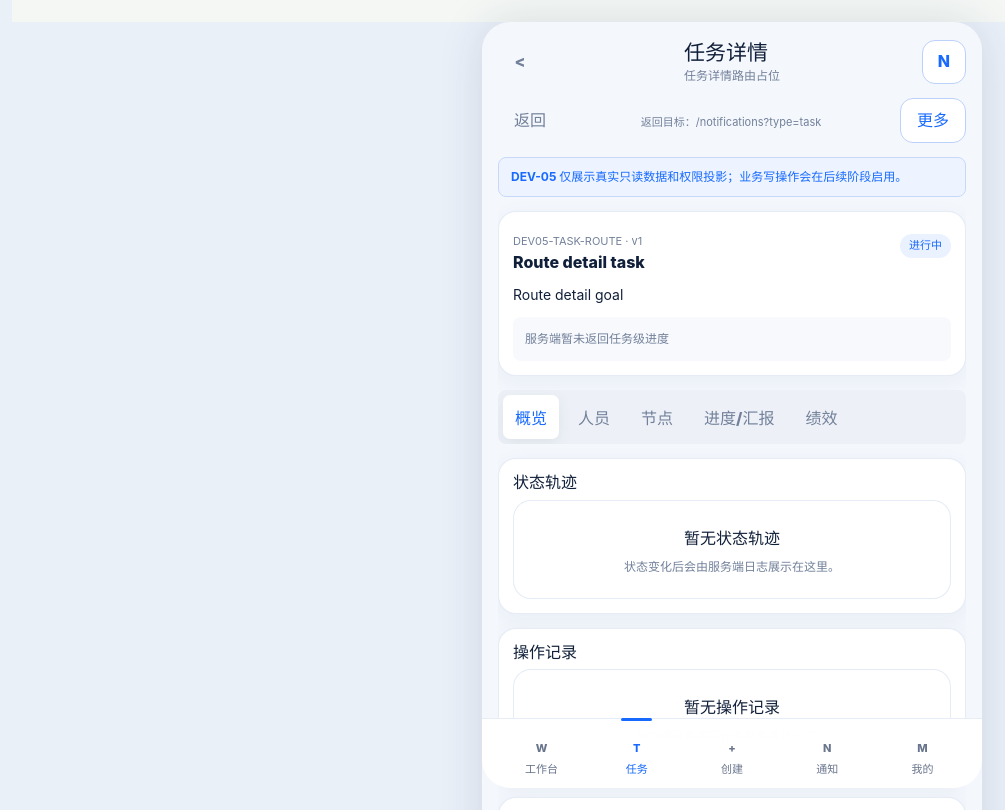
Test: DEV-02 target router › uses explicit return source state before route fallback
The image size is (1005, 810).
Click the button "返回".
click(530, 121)  # box [498,99,562,143]
(page scrolled)
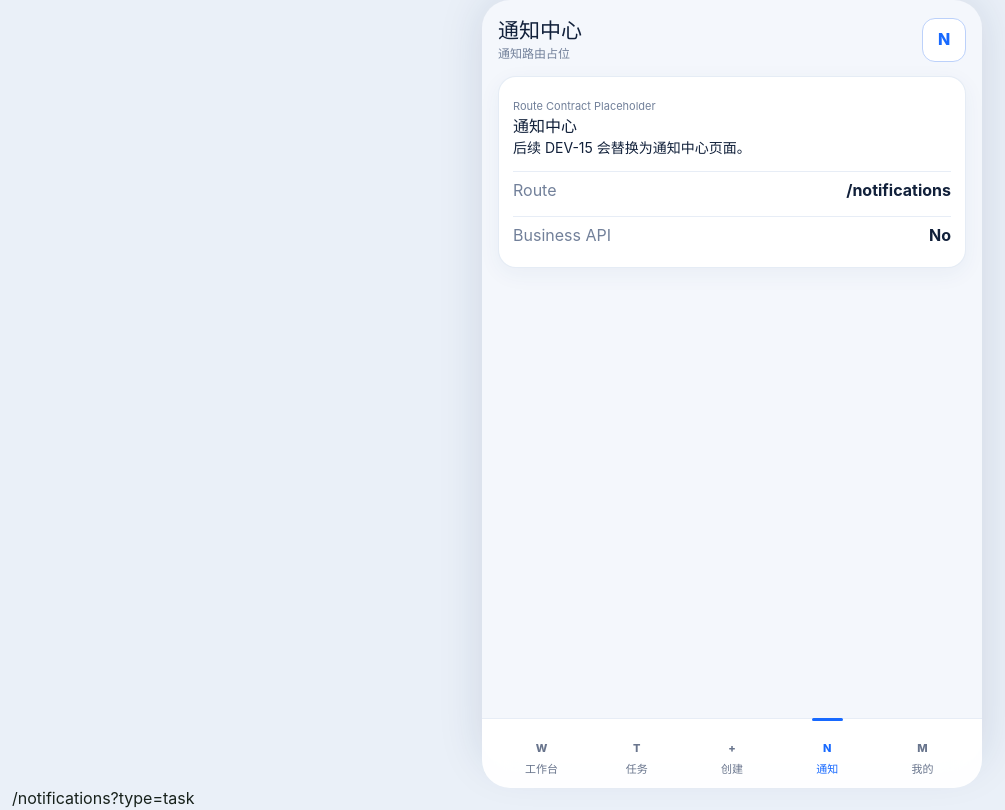
Now the text with test id "location" reads "/notifications?type=task", box [12,788,195,808]
